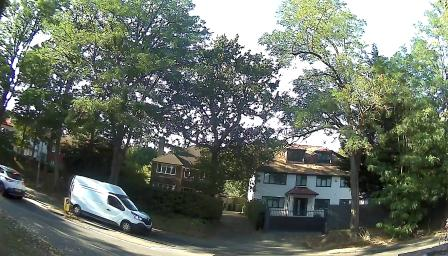Cars: (70, 166, 166, 247), (0, 163, 28, 201)
